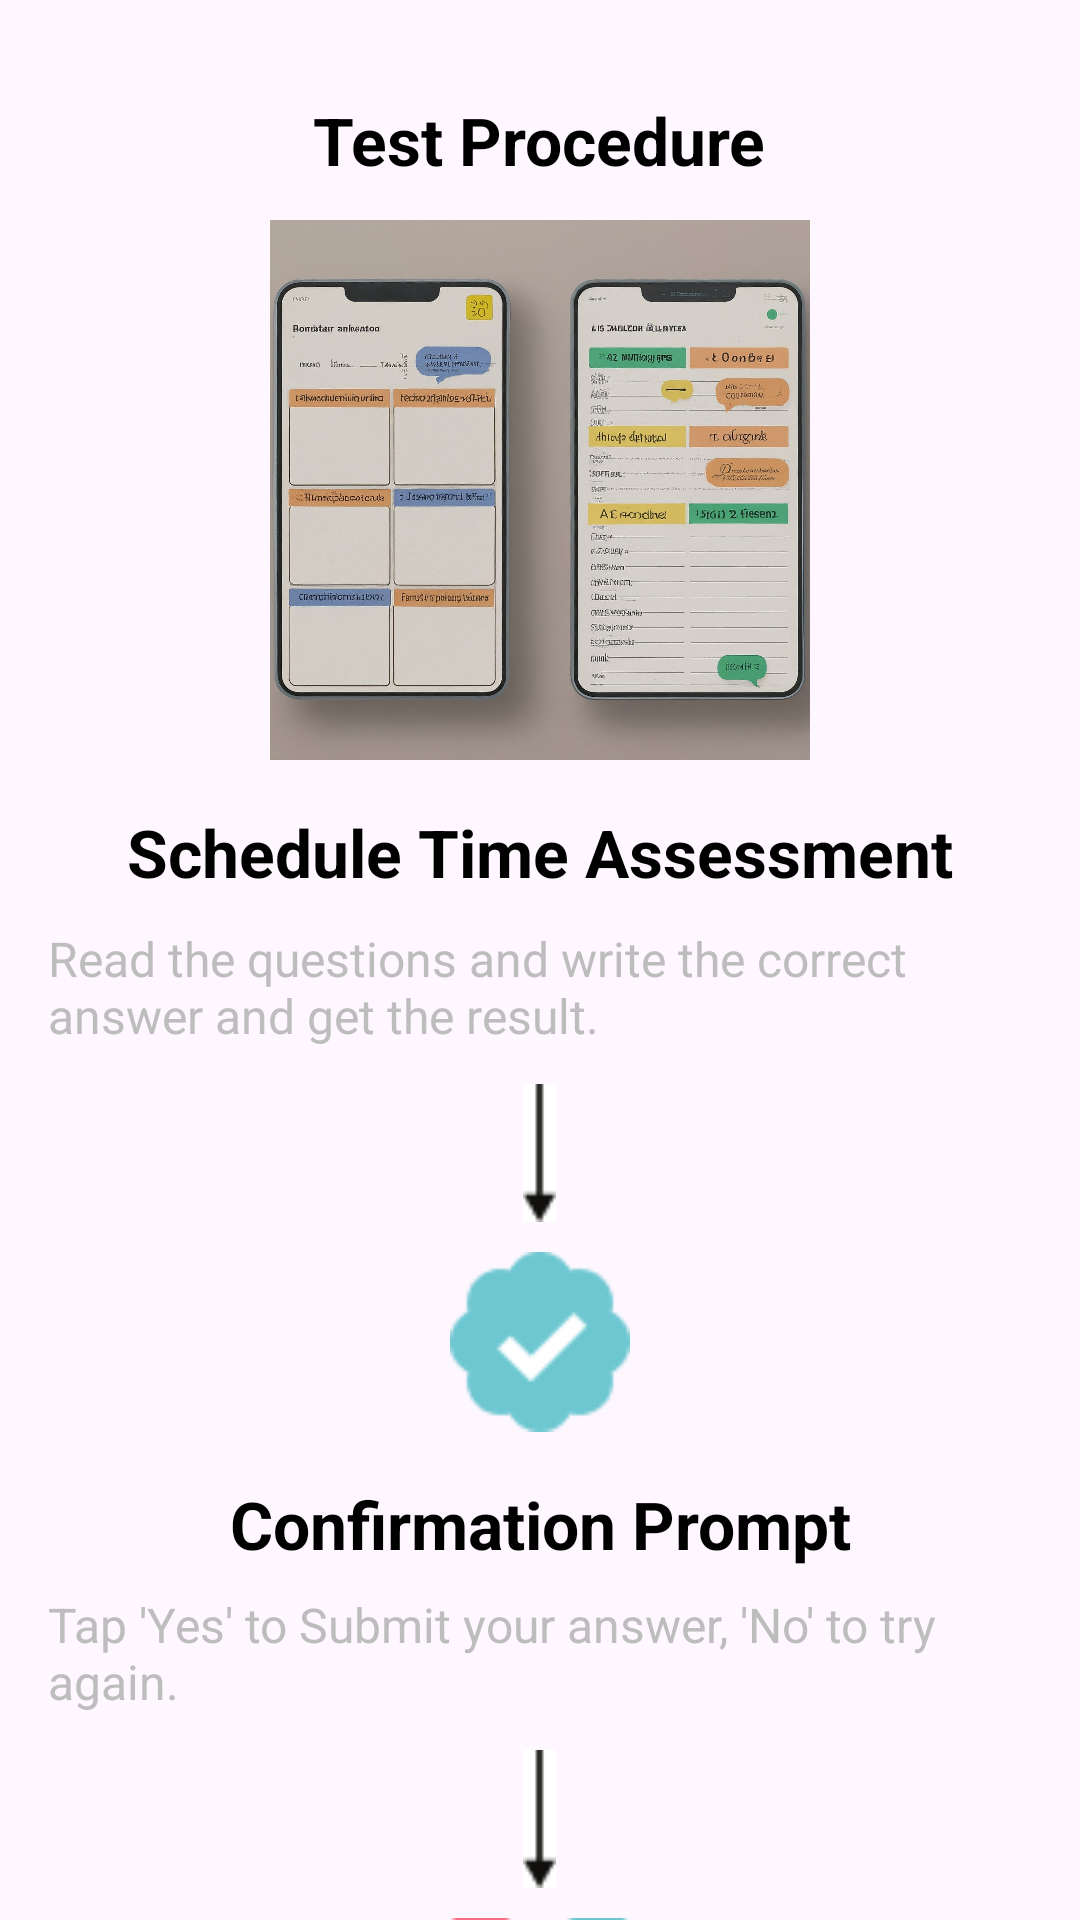

Icons on this 1080px x 1920px Android screen, each with its box as (x1, y1, x2, y2):
Down arrow: (523, 1084, 556, 1222), (523, 1750, 556, 1888)
Verification image: (450, 1252, 630, 1432)
